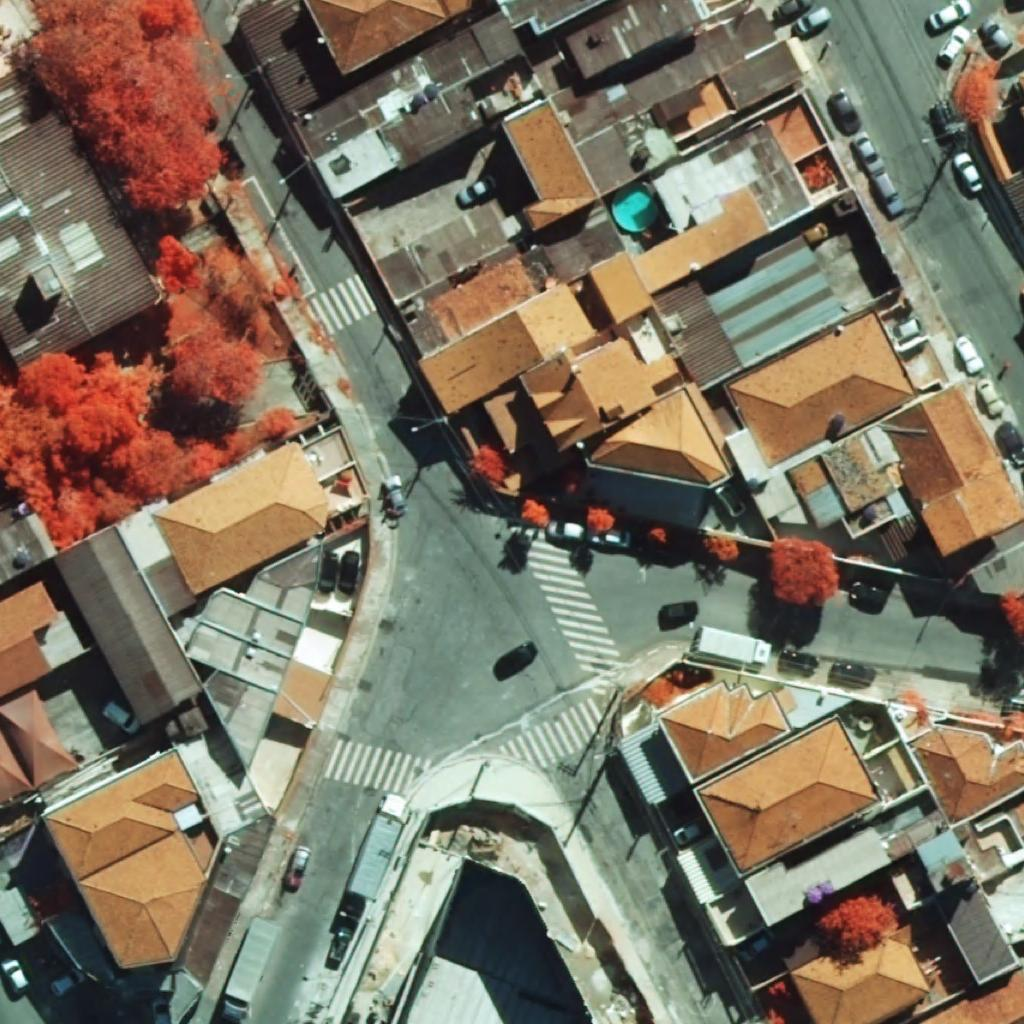pool: (612, 188, 657, 232)
